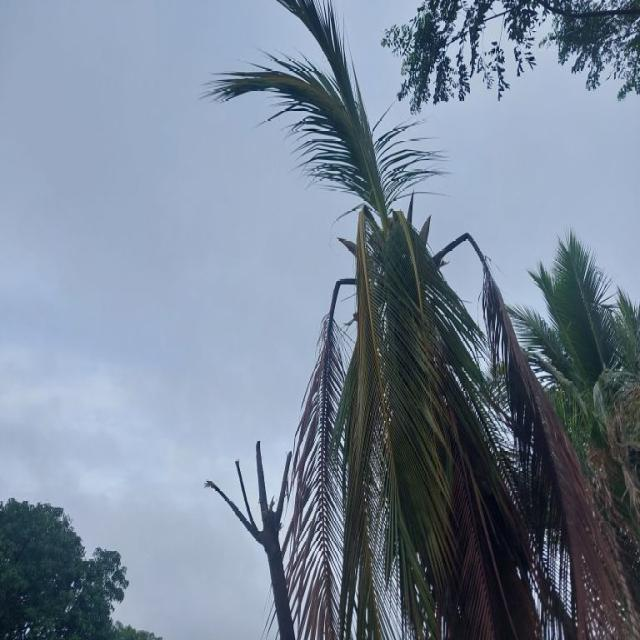bud root dropping: (211, 0, 640, 638)
